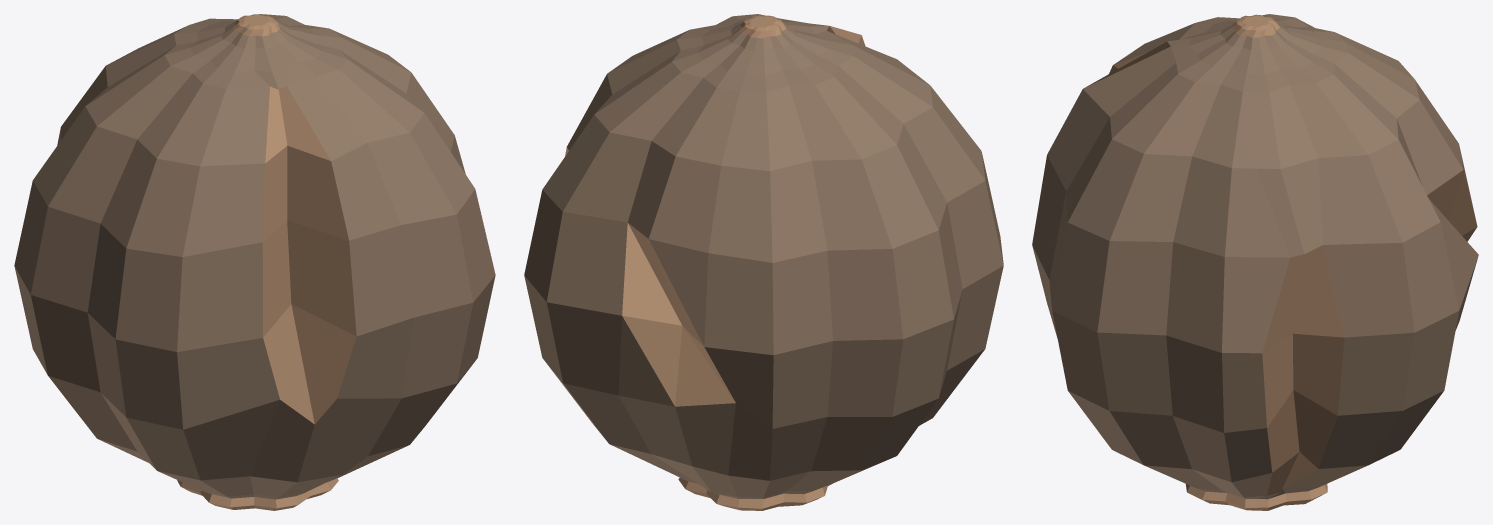
Rendered from OnionHurt1.fbx.
3 views of the same model, side by side, from view 1: azimuth 30°, elevation 25°; view 2: azimuth 150°, elevation 25°; view 3: azimuth 270°, elevation 25° (orthographic).
Parts seen in each view (by area): view 1: Sphere.001; view 2: Sphere.001; view 3: Sphere.001.
Part boxes in pixels (box(x1,y1,x2,y2)): Sphere.001: box(14, 14, 495, 510); Sphere.001: box(524, 14, 1003, 510); Sphere.001: box(1032, 14, 1478, 510).
Bounding box in the file's own units: 237 × 253 × 223.
